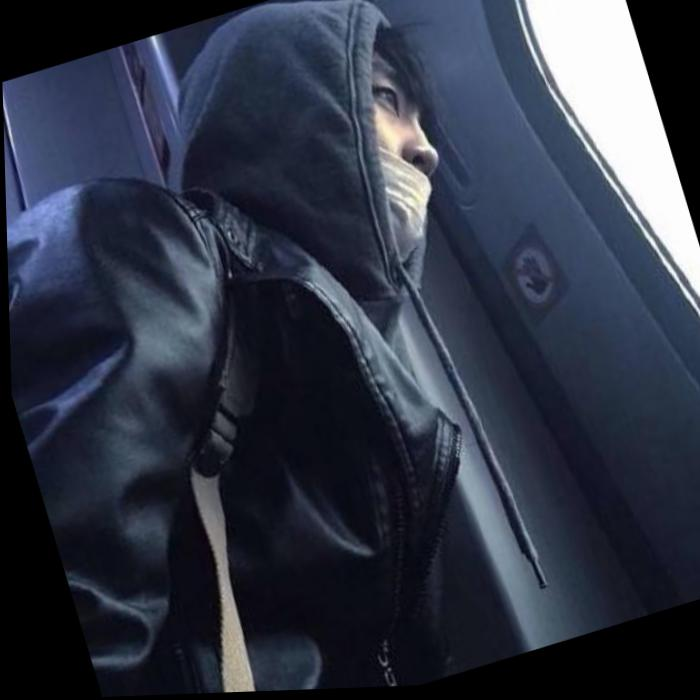WRONG: (313, 62, 470, 268)
